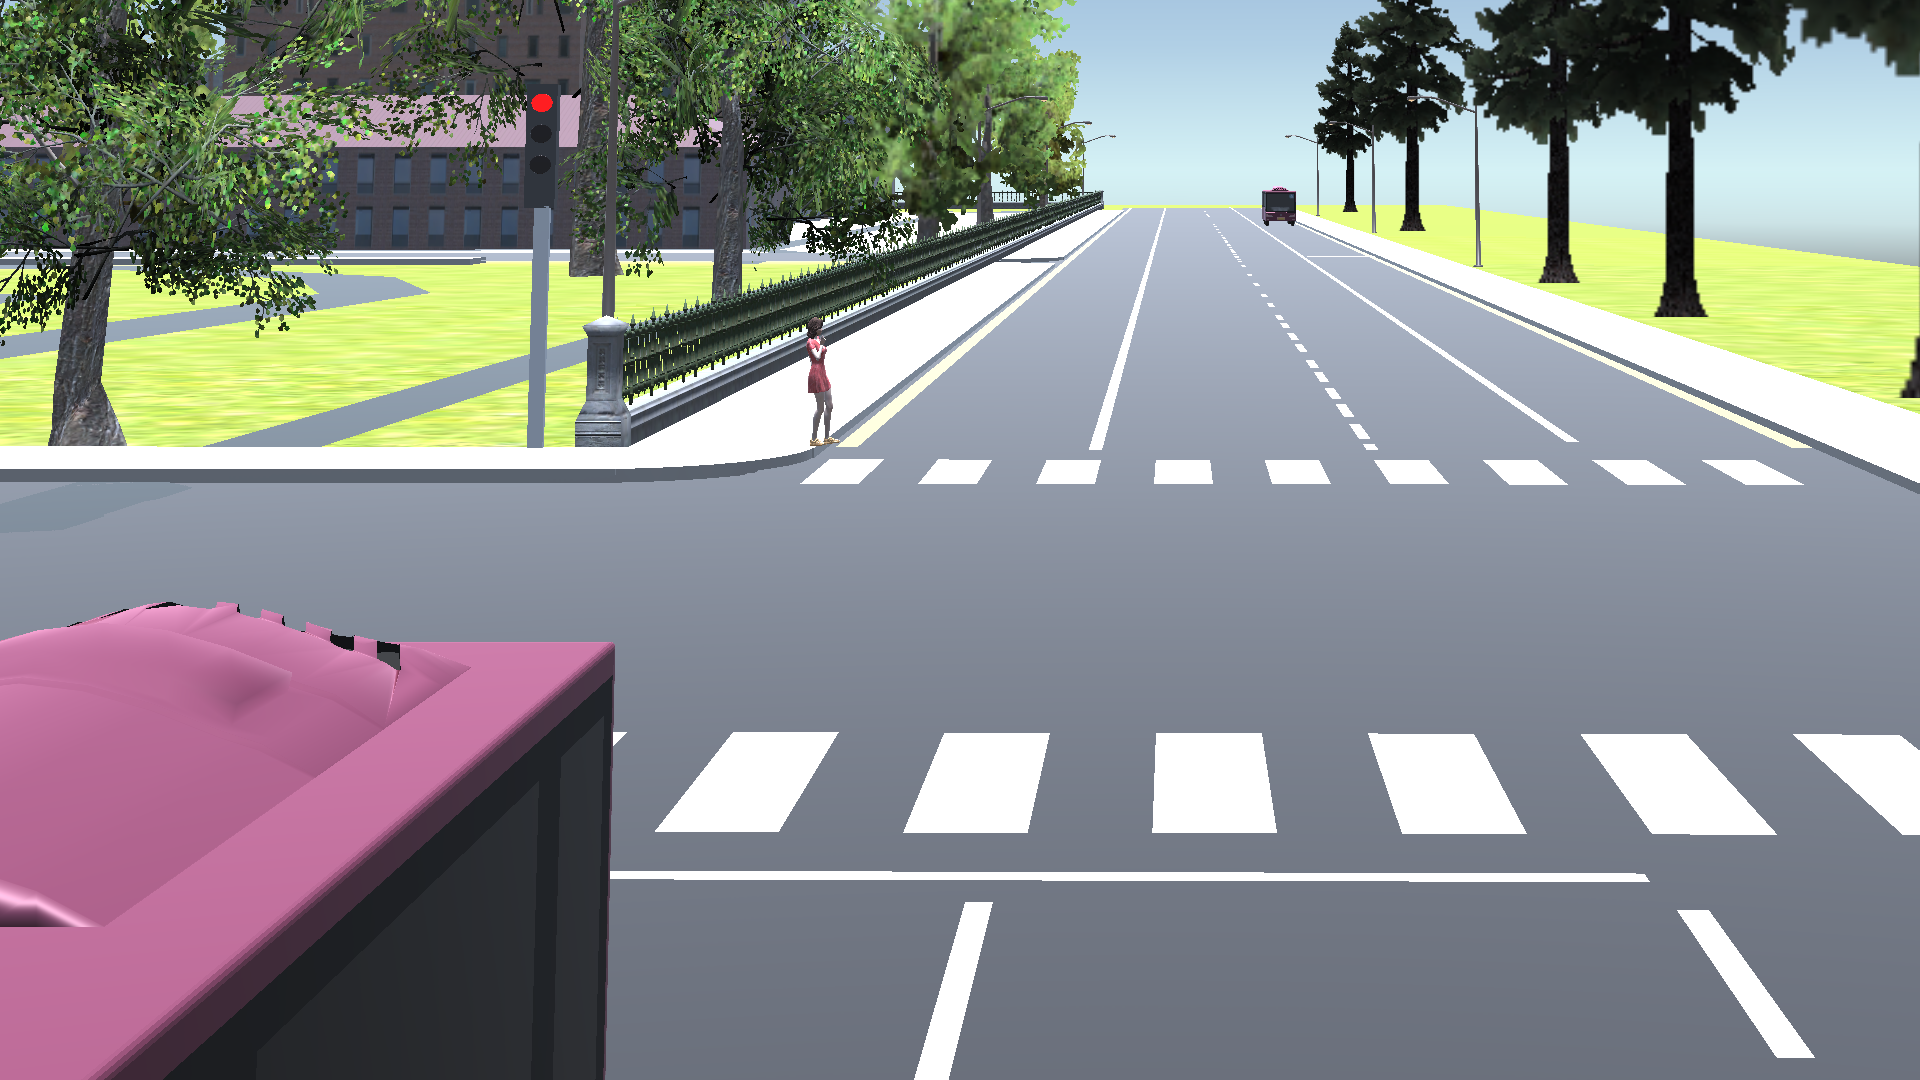pedestrian: (796, 311, 846, 453)
